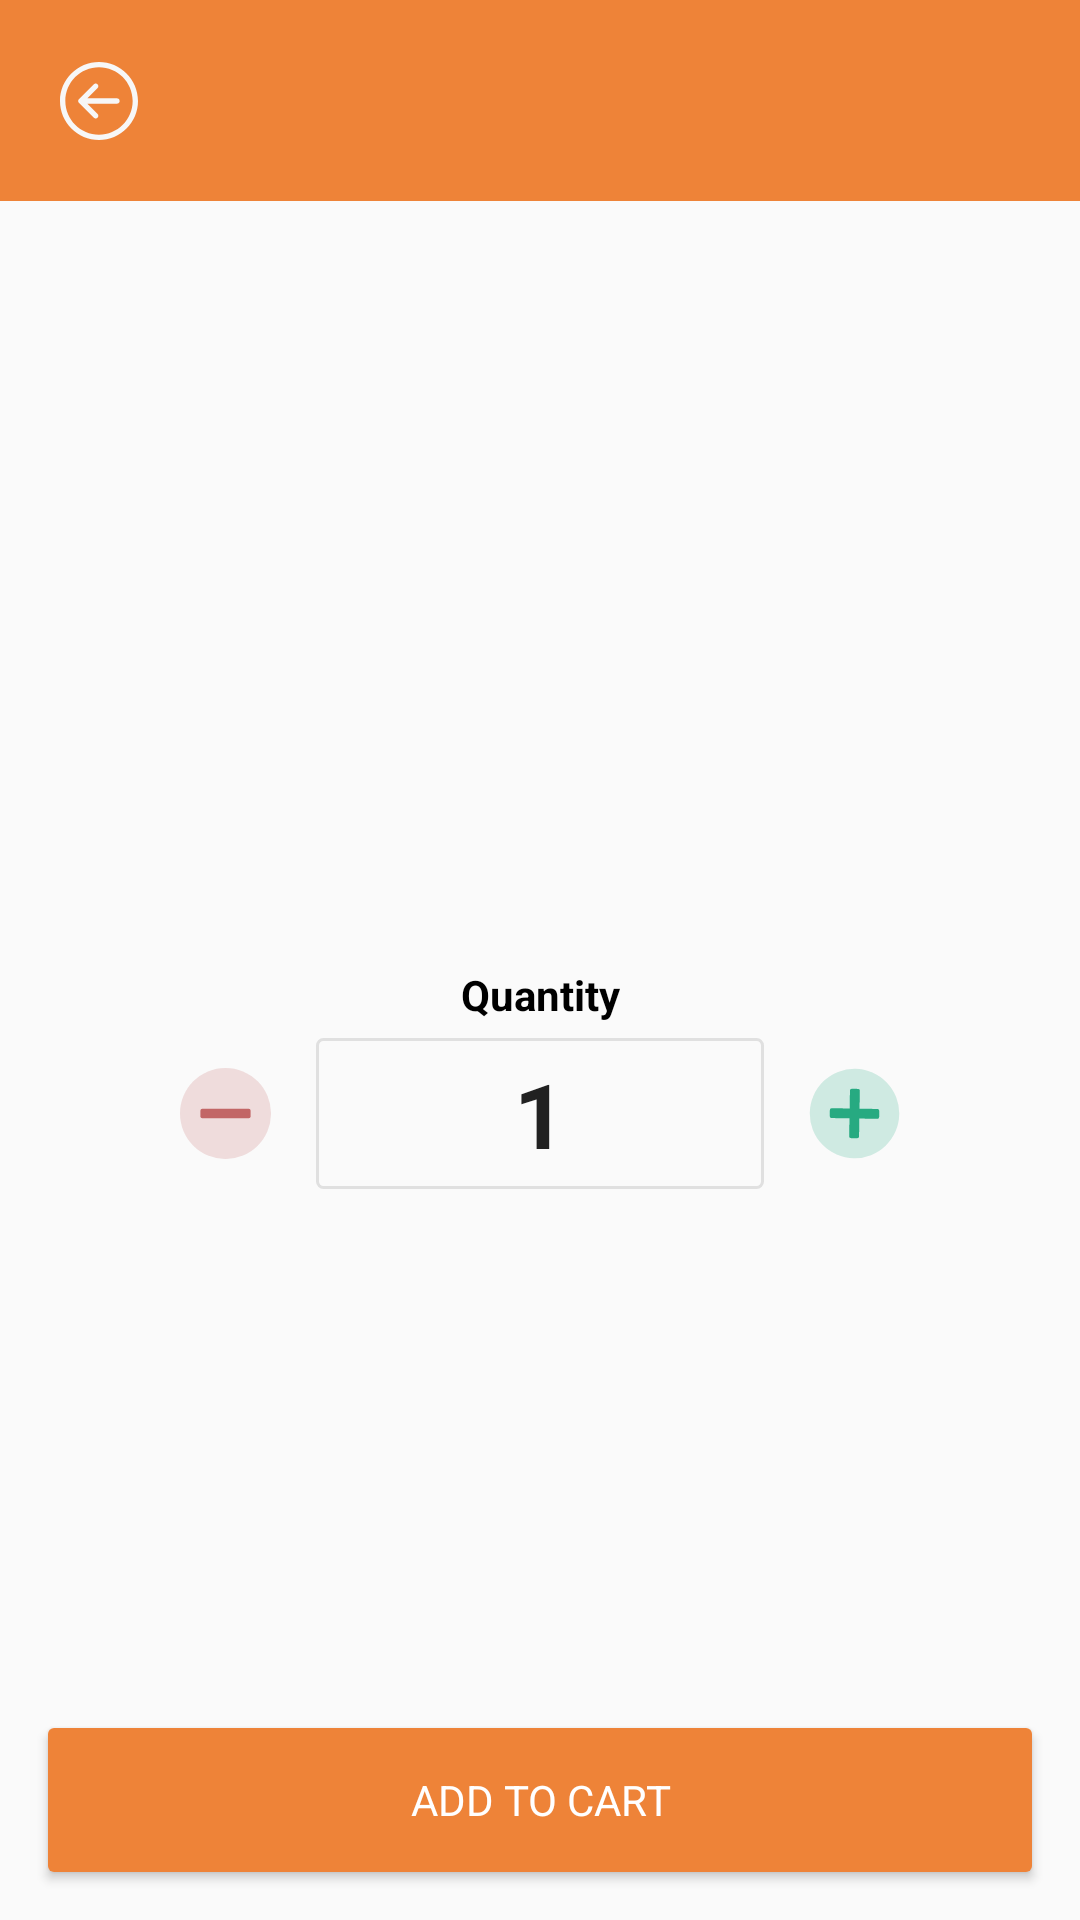

Icons on this 1080×1920 Android screen, each with its box as [left=x1, top=y1, right=x2, bottom=y2]:
back: [left=60, top=62, right=138, bottom=140]
decrease: [left=180, top=1068, right=271, bottom=1159]
increase: [left=810, top=1069, right=899, bottom=1158]
